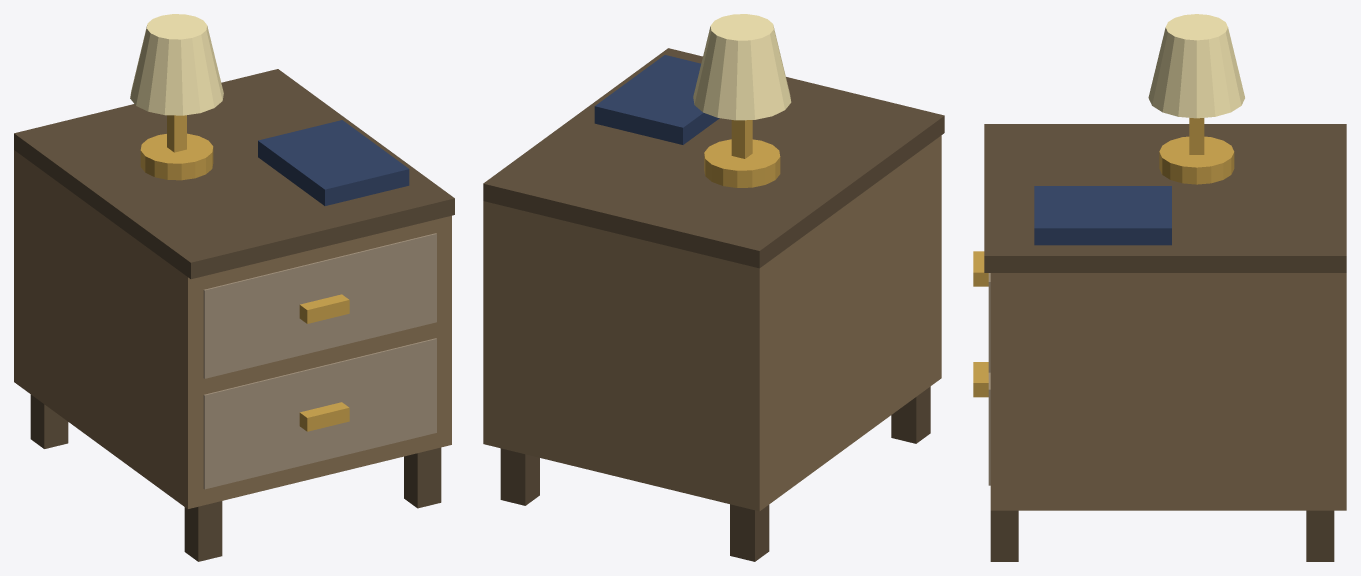
The model's file is nightstand.glb.
3 views of the same model, side by side, from view 1: azimuth 30°, elevation 25°; view 2: azimuth 150°, elevation 25°; view 3: azimuth 270°, elevation 25° (orthographic). The views are drawn at different scales.
Visible parts, largest first — view 1: nightstand_Body; view 2: nightstand_Body; view 3: nightstand_Body.
Boxes of the visible parts, x1,y1,x2,y2 form: nightstand_Body: (14, 14, 454, 561); nightstand_Body: (483, 14, 944, 561); nightstand_Body: (973, 14, 1346, 561).
Bounding box in the file's own units: 0.5 × 0.8 × 0.598.
